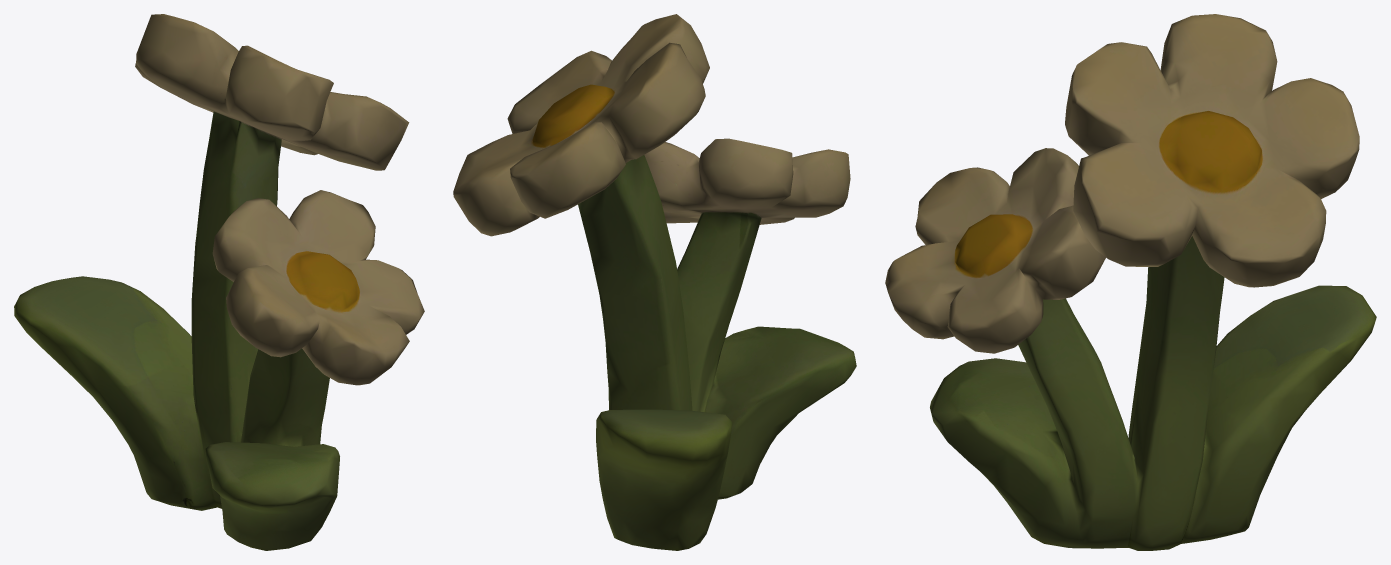
Rendered from daisy_clump.glb.
3 renders of one model, left to right at view 1: azimuth 30°, elevation 25°; view 2: azimuth 150°, elevation 25°; view 3: azimuth 270°, elevation 25°, orthographic. The views are drawn at different scales.
Parts seen in each view (by area): view 1: tripo_node_bf124237-d663-4213-97ba-192daa2fe122; view 2: tripo_node_bf124237-d663-4213-97ba-192daa2fe122; view 3: tripo_node_bf124237-d663-4213-97ba-192daa2fe122.
Boxes of the visible parts, left/top/right/bottom form: tripo_node_bf124237-d663-4213-97ba-192daa2fe122: left=14, top=14, right=424, bottom=550; tripo_node_bf124237-d663-4213-97ba-192daa2fe122: left=453, top=14, right=856, bottom=550; tripo_node_bf124237-d663-4213-97ba-192daa2fe122: left=885, top=14, right=1376, bottom=550.
Size of the model in its own units: 0.635 by 1 by 0.8775.
1 material, 1 textured.
